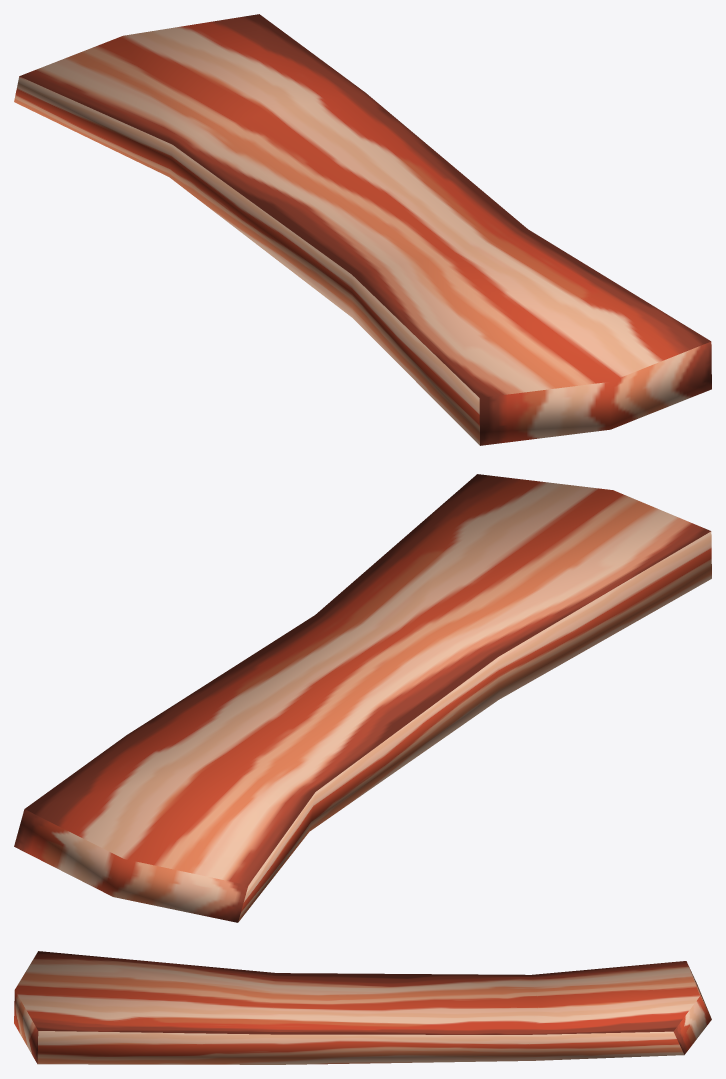
Rendered from SM_PROP_food_meat_09.FBX.
The picture shows the model from 3 angles, top to bottom: view 1: azimuth 30°, elevation 25°; view 2: azimuth 150°, elevation 25°; view 3: azimuth 270°, elevation 25°; orthographic projection. The views are drawn at different scales.
Visible parts, largest first — view 1: SM_PROP_food_meat_09; view 2: SM_PROP_food_meat_09; view 3: SM_PROP_food_meat_09.
Boxes of the visible parts, x1=… form: SM_PROP_food_meat_09: x1=14, y1=14, x2=711, y2=445; SM_PROP_food_meat_09: x1=14, y1=474, x2=711, y2=922; SM_PROP_food_meat_09: x1=14, y1=951, x2=711, y2=1064.
Size of the model in its own units: 8.76 by 31.96 by 1.94.
